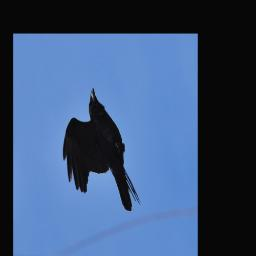Crow: (51, 83, 143, 224)
